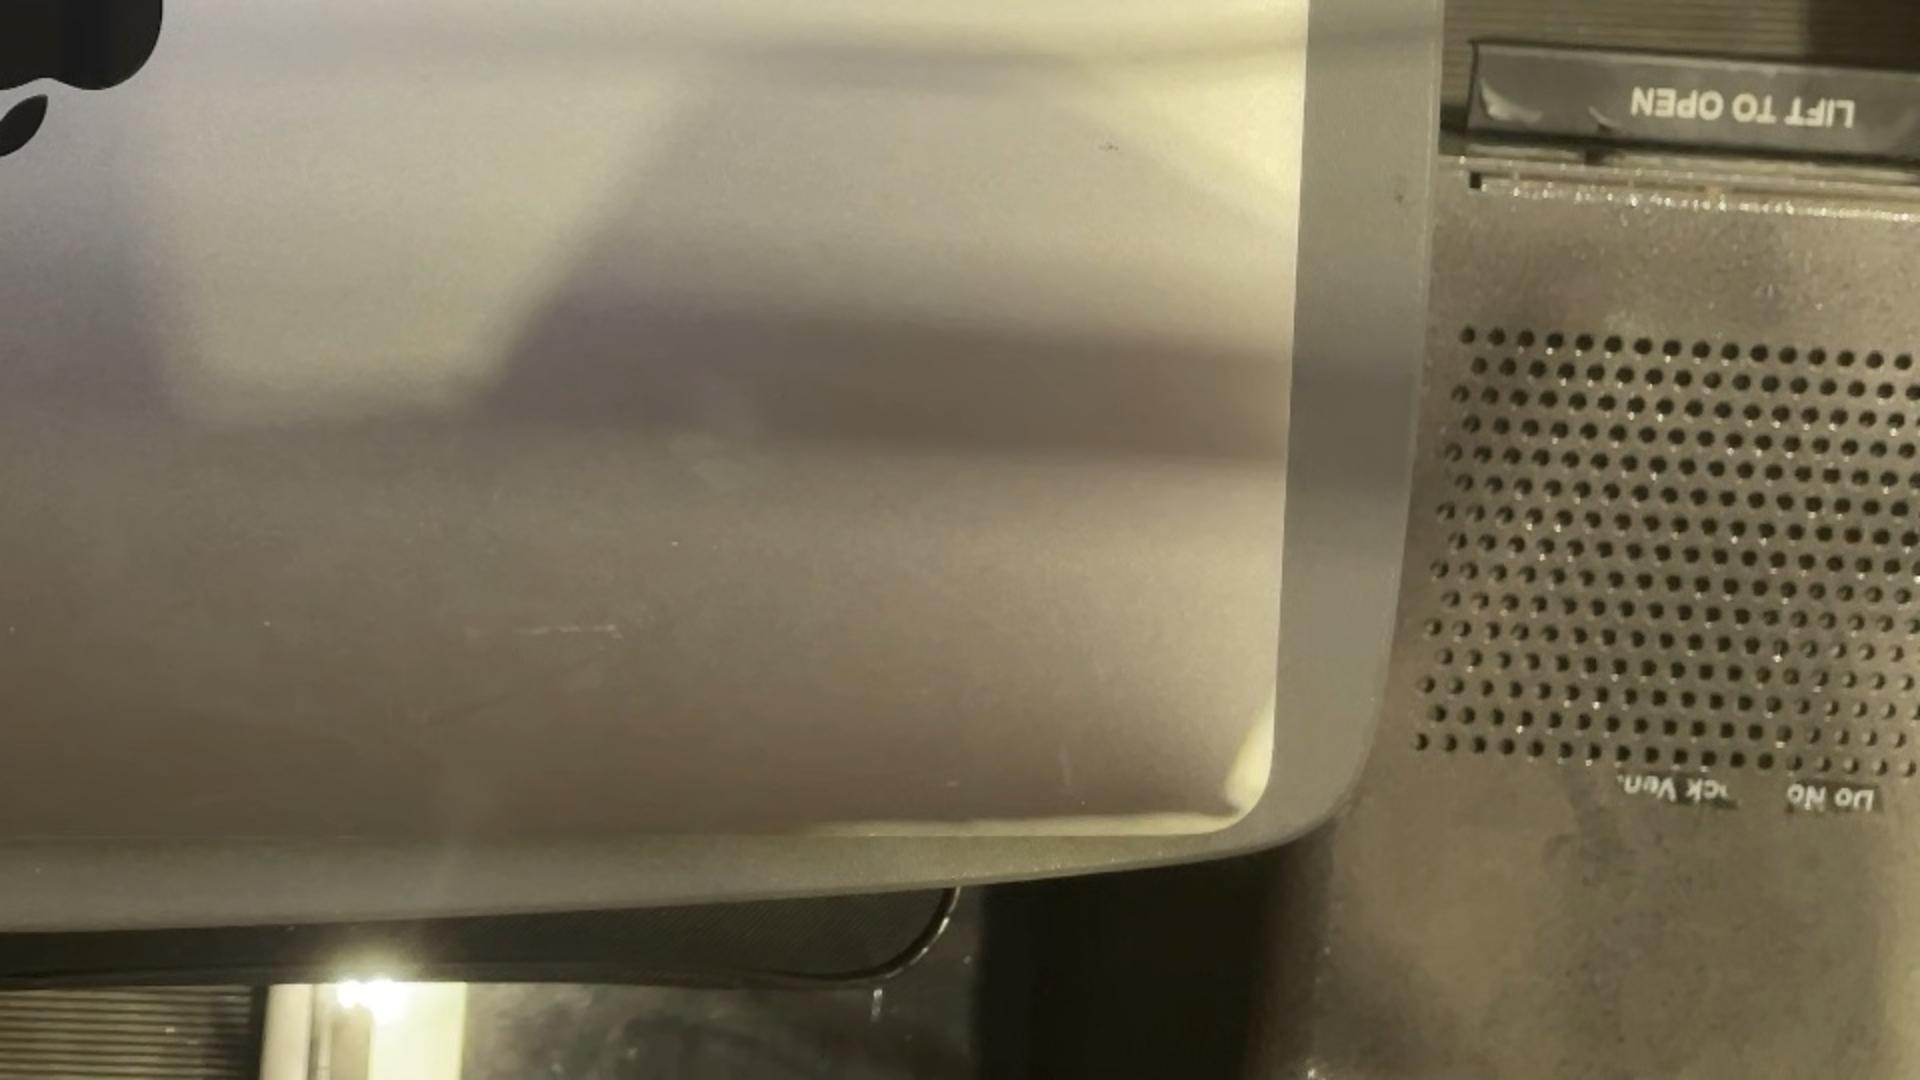scratches: (480, 622, 624, 640)
